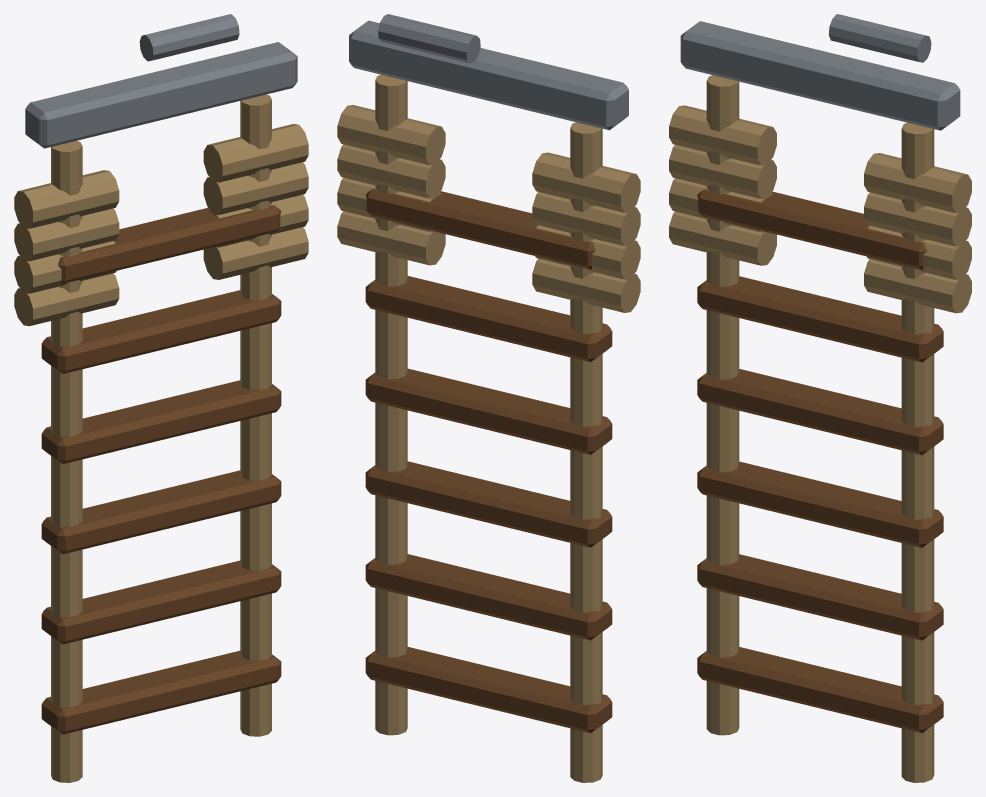
The model's file is RopeLadder.glb.
3 renders of one model, left to right at view 1: azimuth 30°, elevation 25°; view 2: azimuth 150°, elevation 25°; view 3: azimuth 330°, elevation 25°, orthographic. The views are drawn at different scales.
Parts seen in each view (by area): view 1: Body; view 2: Body; view 3: Body.
Boxes of the visible parts, x1,y1,x2,y2 form: Body: (14,14,308,782); Body: (337,14,640,782); Body: (669,14,971,782).
Bounding box in the file's own units: 1.6 × 3.92 × 0.3291.
